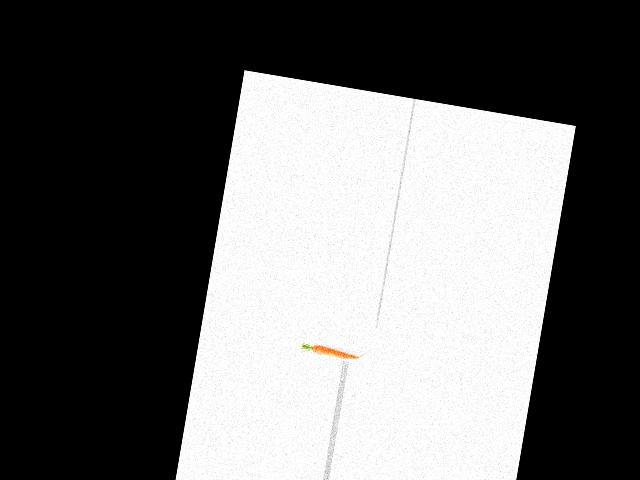carrot: (307, 342, 351, 362)
